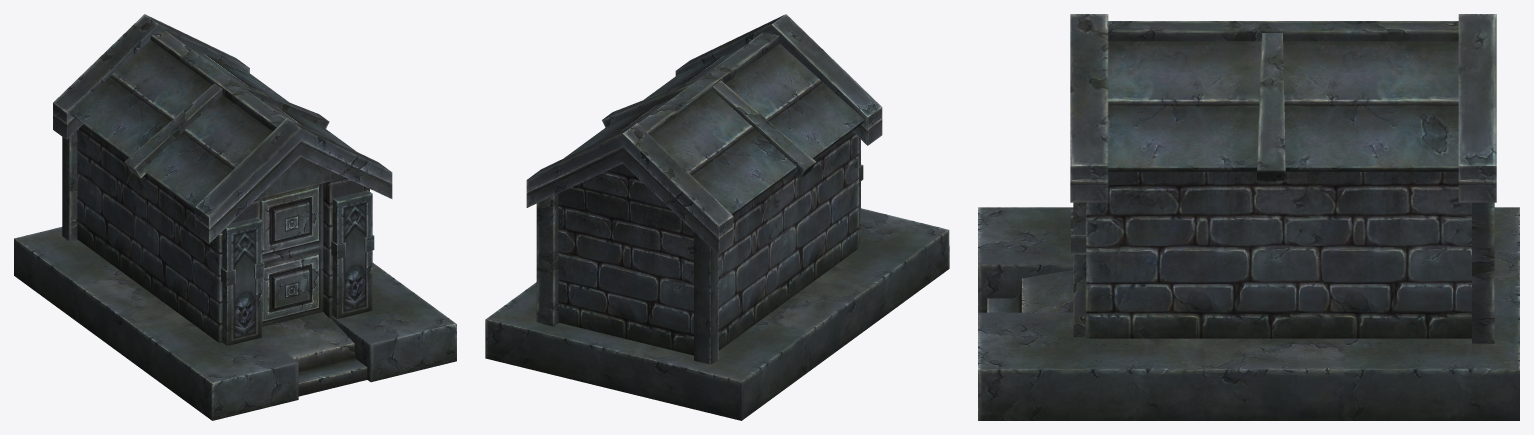
File: C_mushi001.fbx
3 renders of one model, left to right at view 1: azimuth 30°, elevation 25°; view 2: azimuth 150°, elevation 25°; view 3: azimuth 270°, elevation 25°, orthographic. The views are drawn at different scales.
Parts seen in each view (by area): view 1: C_mushi001; view 2: C_mushi001; view 3: C_mushi001.
Boxes of the visible parts, x1,y1,x2,y2 form: C_mushi001: [14, 14, 456, 420]; C_mushi001: [485, 14, 949, 420]; C_mushi001: [978, 14, 1519, 420].
Bounding box in the file's own units: 280 × 261 × 393.
